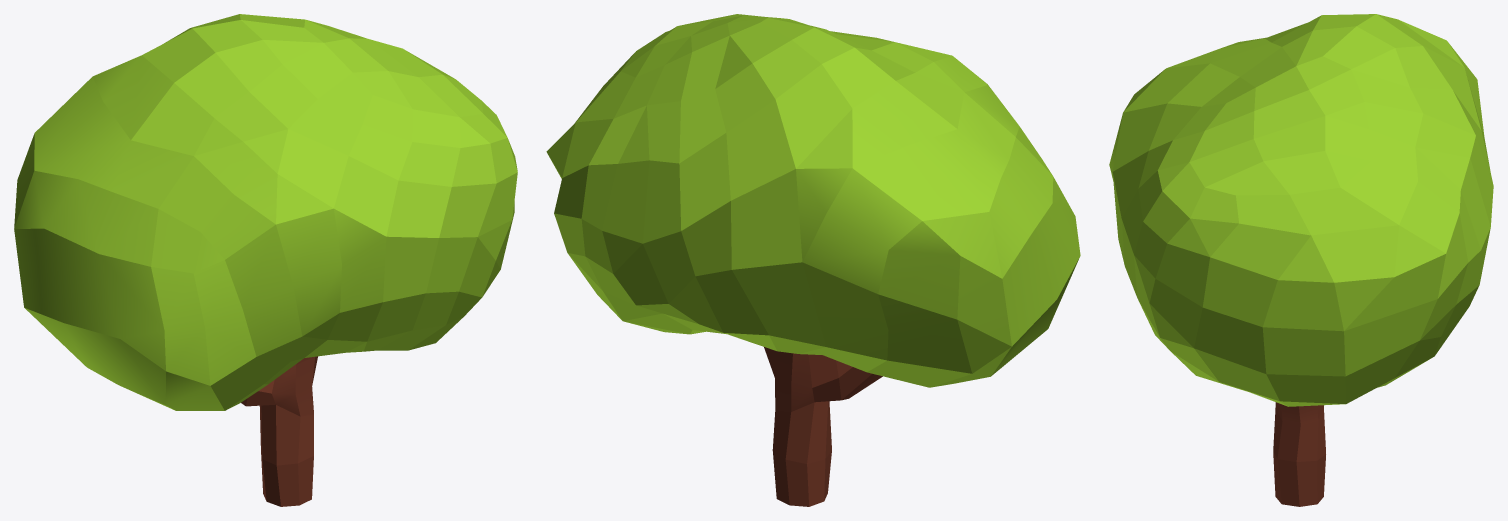
The model's file is maya_export_Tree4_v4.fbx.
3 views of the same model, side by side, from view 1: azimuth 30°, elevation 25°; view 2: azimuth 150°, elevation 25°; view 3: azimuth 270°, elevation 25° (orthographic). The views are drawn at different scales.
Visible parts, largest first — view 1: Tree4_v4; view 2: Tree4_v4; view 3: Tree4_v4.
Part boxes in pixels (x1,y1,x2,y2): Tree4_v4: (14, 14, 517, 506); Tree4_v4: (546, 14, 1080, 506); Tree4_v4: (1109, 14, 1493, 506).
Size of the model in its own units: 7.87 by 7.89 by 5.95.
1 material, 1 textured.
